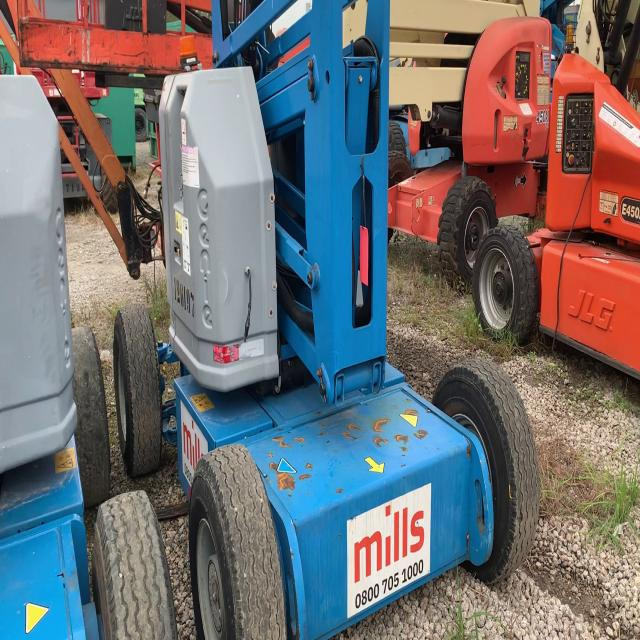Adesivos: (346, 478, 434, 624)
